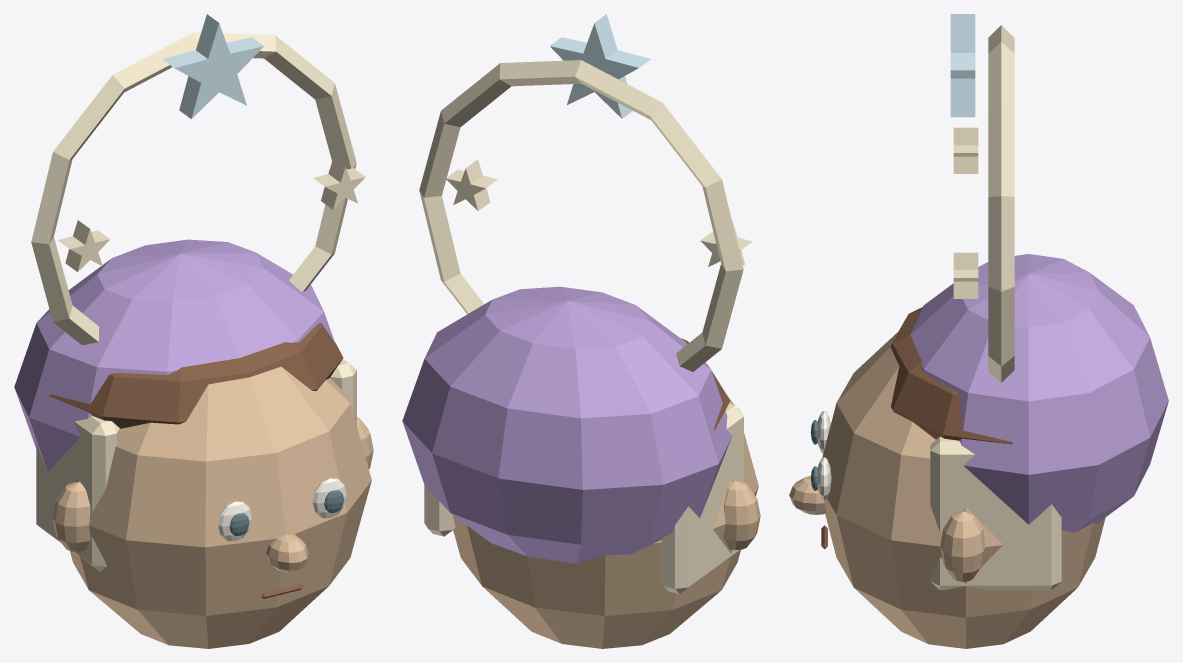
Rendered from Oracle_Peasant_Head.fbx.
3 views of the same model, side by side, from view 1: azimuth 30°, elevation 25°; view 2: azimuth 150°, elevation 25°; view 3: azimuth 270°, elevation 25° (orthographic).
Parts seen in each view (by area): view 1: Oracle_Peasant_Head; view 2: Oracle_Peasant_Head; view 3: Oracle_Peasant_Head.
Part boxes in pixels (x1,y1,x2,y2): Oracle_Peasant_Head: [14, 14, 373, 648]; Oracle_Peasant_Head: [402, 14, 760, 648]; Oracle_Peasant_Head: [789, 14, 1168, 648].
Bounding box in the file's own units: 68.8 × 125 × 69.4.
